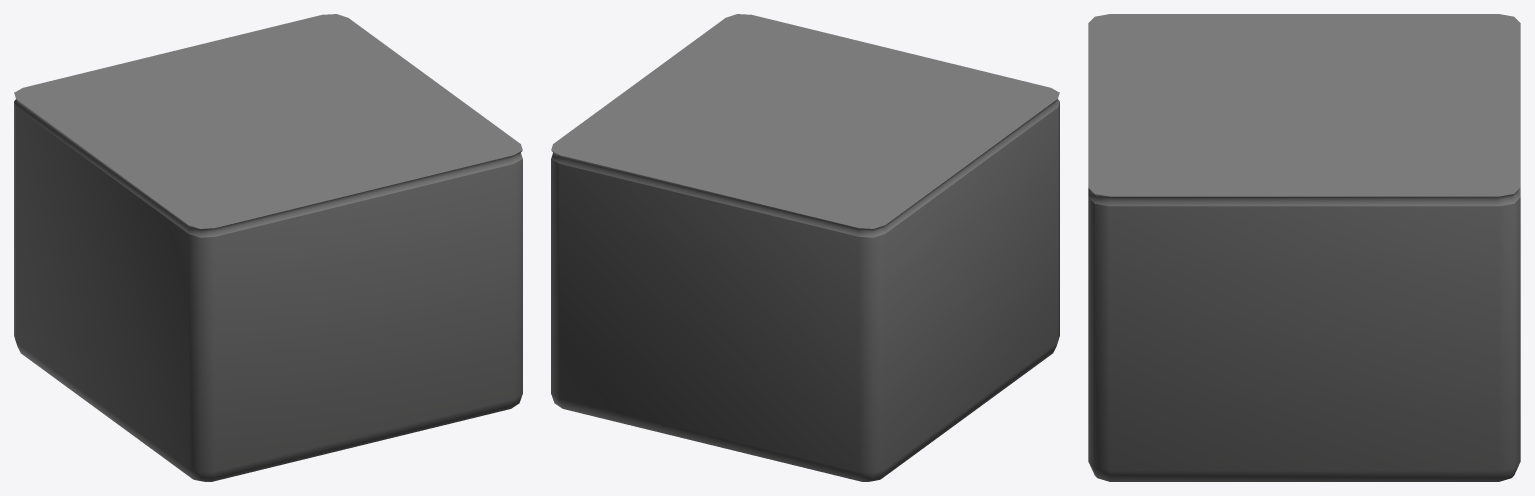
File: 3D_Tile_Socket_Dungeon_04.fbx
3 renders of one model, left to right at view 1: azimuth 30°, elevation 25°; view 2: azimuth 150°, elevation 25°; view 3: azimuth 270°, elevation 25°, orthographic. The views are drawn at different scales.
Visible parts, largest first — view 1: 3D_Tile_Socket_Dungeon_04; view 2: 3D_Tile_Socket_Dungeon_04; view 3: 3D_Tile_Socket_Dungeon_04.
Part boxes in pixels (left/top/right/bottom): 3D_Tile_Socket_Dungeon_04: left=14, top=14, right=522, bottom=481; 3D_Tile_Socket_Dungeon_04: left=551, top=14, right=1059, bottom=481; 3D_Tile_Socket_Dungeon_04: left=1088, top=14, right=1520, bottom=481.
Size of the model in its own units: 200 by 150 by 200.
